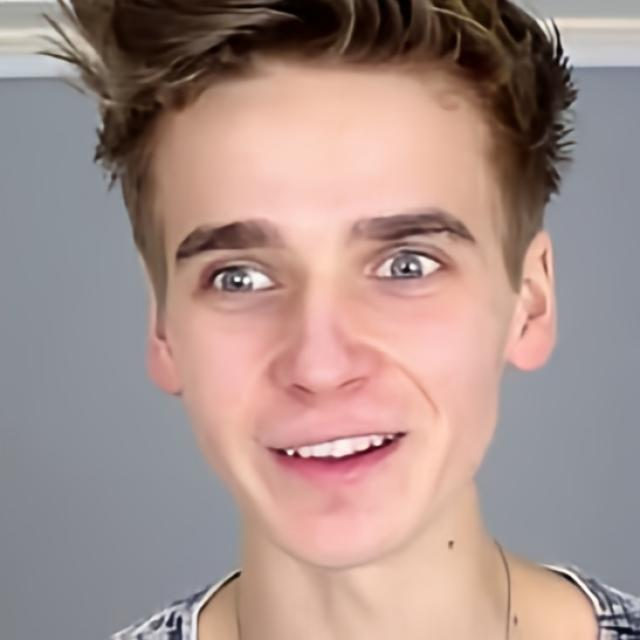surprise: (157, 47, 513, 571)
